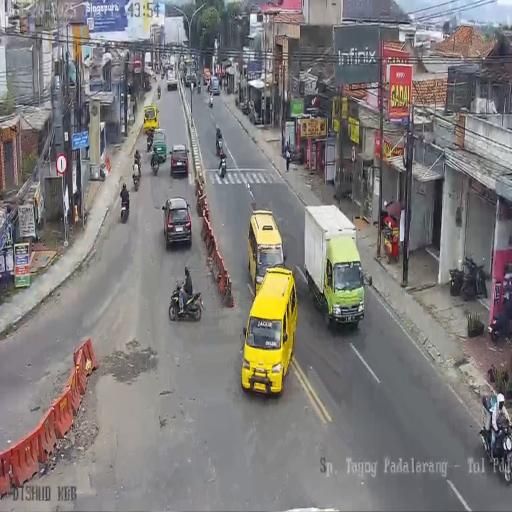car: (242, 267, 297, 394), (162, 196, 192, 249), (170, 144, 189, 177), (152, 128, 168, 161), (143, 104, 159, 132), (166, 72, 178, 91), (209, 76, 220, 95), (185, 69, 196, 87), (203, 68, 212, 86)
motorcycle: (450, 254, 487, 301), (168, 280, 202, 322), (488, 310, 508, 342), (285, 142, 303, 166), (120, 193, 130, 223), (150, 153, 160, 174), (218, 152, 226, 178), (241, 98, 251, 116), (216, 134, 223, 157), (133, 170, 140, 192), (146, 132, 153, 152), (208, 93, 214, 108), (181, 71, 186, 85), (157, 85, 161, 98), (155, 64, 159, 75), (161, 69, 165, 79), (197, 83, 201, 93), (153, 73, 157, 82)
truck: (304, 202, 363, 327), (169, 55, 175, 70)
